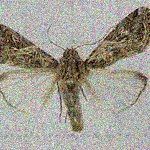Spodoptera litura: (0, 6, 149, 132)
